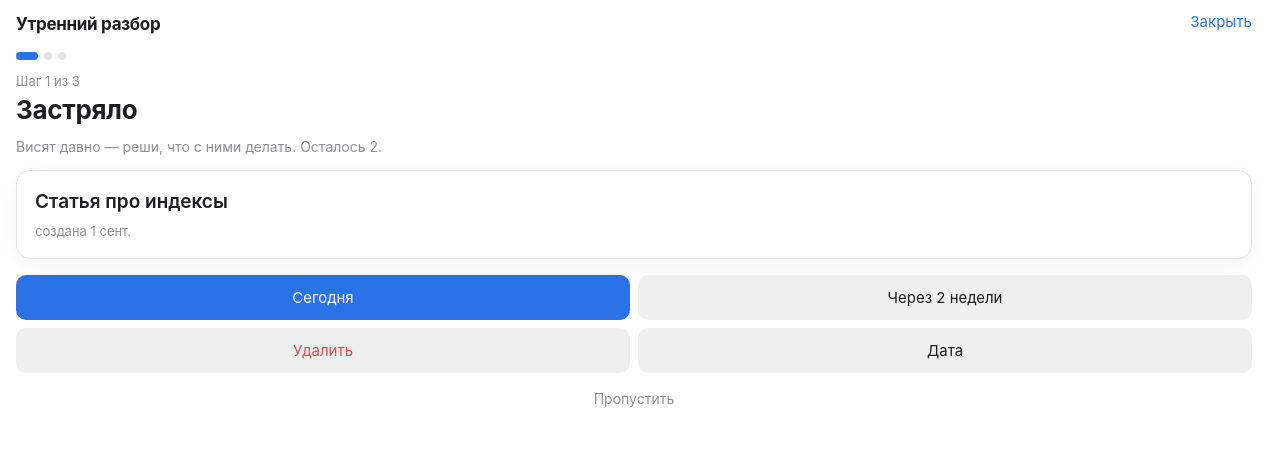
Утренний разбор › застрявшие по одной: через 2 недели и пропуск
Expected: the text "Статья про индексы" is shown, [35,190,228,213]
Expected: the text "Разобрать гараж" is not shown
Step 1. Click the button "Через 2 недели" → [945, 298], box [638,275,1252,320]
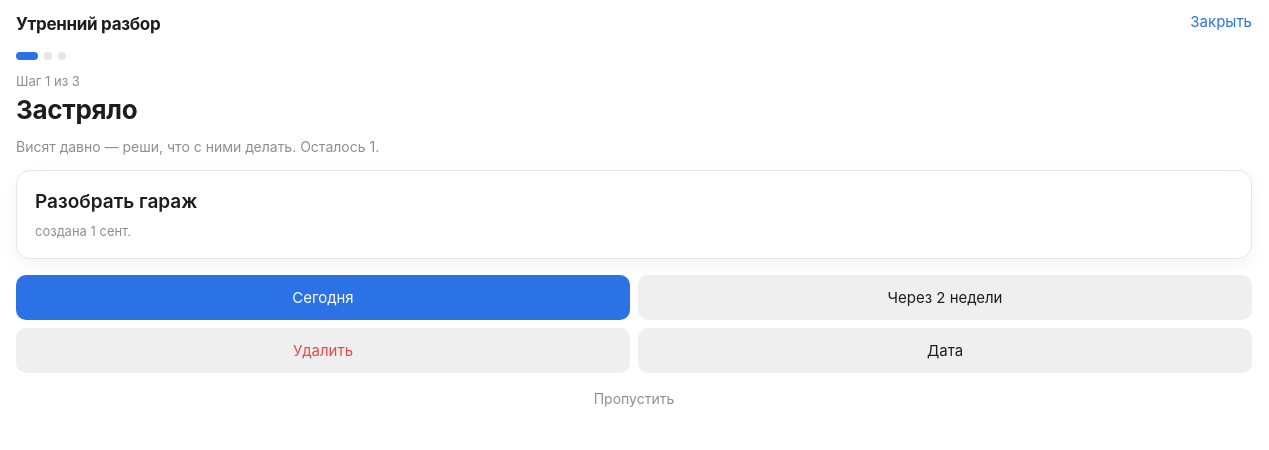
Now the text "Разобрать гараж" is shown, box [35,190,197,213]
Step 2. Click the button "Пропустить" → [634, 399], box [16,383,1252,415]
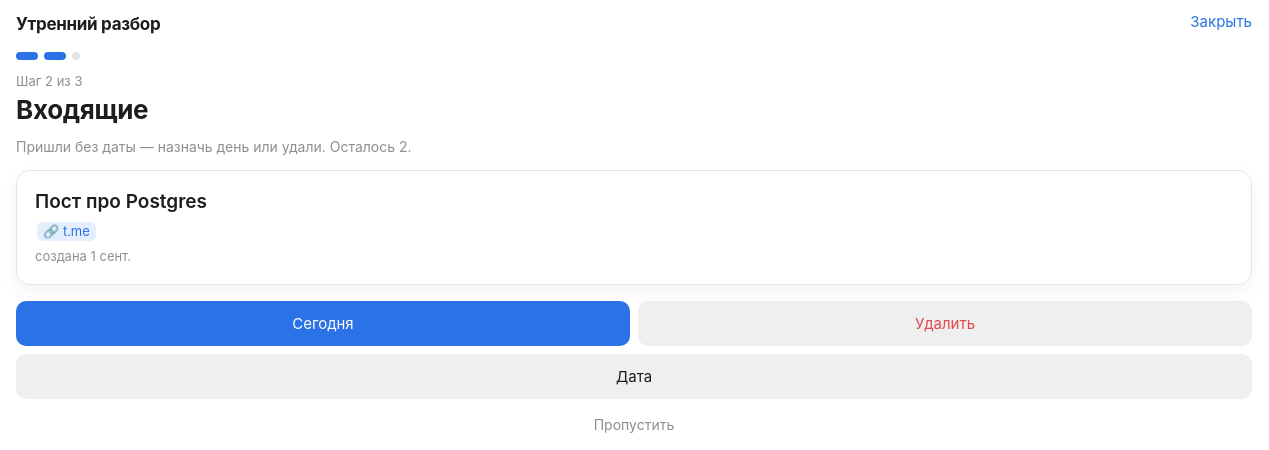
Now the heading "Входящие" is shown, box [16,94,148,125]
